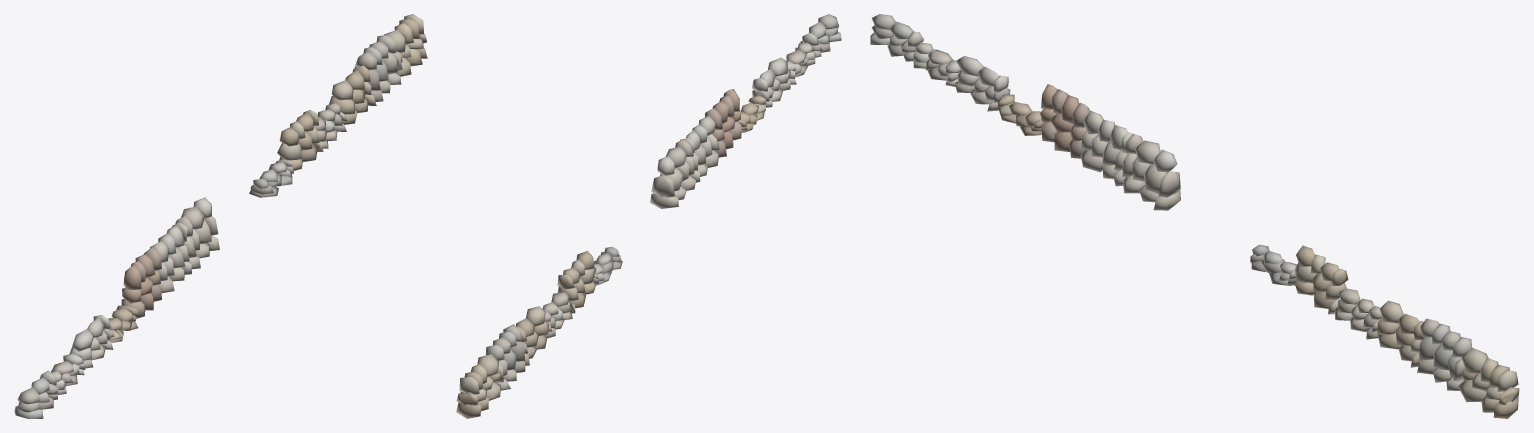
File: farm_1_14_near.glb
3 views of the same model, side by side, from view 1: azimuth 30°, elevation 25°; view 2: azimuth 210°, elevation 25°; view 3: azimuth 270°, elevation 25° (orthographic). The views are drawn at different scales.
Visible parts, largest first — view 1: geometry_0; view 2: geometry_0; view 3: geometry_0.
Boxes of the visible parts, x1=… form: geometry_0: x1=14, y1=14, x2=427, y2=418; geometry_0: x1=456, y1=14, x2=841, y2=418; geometry_0: x1=870, y1=14, x2=1519, y2=418.
Bounding box in the file's own units: 19.12 × 1.92 × 14.51.
